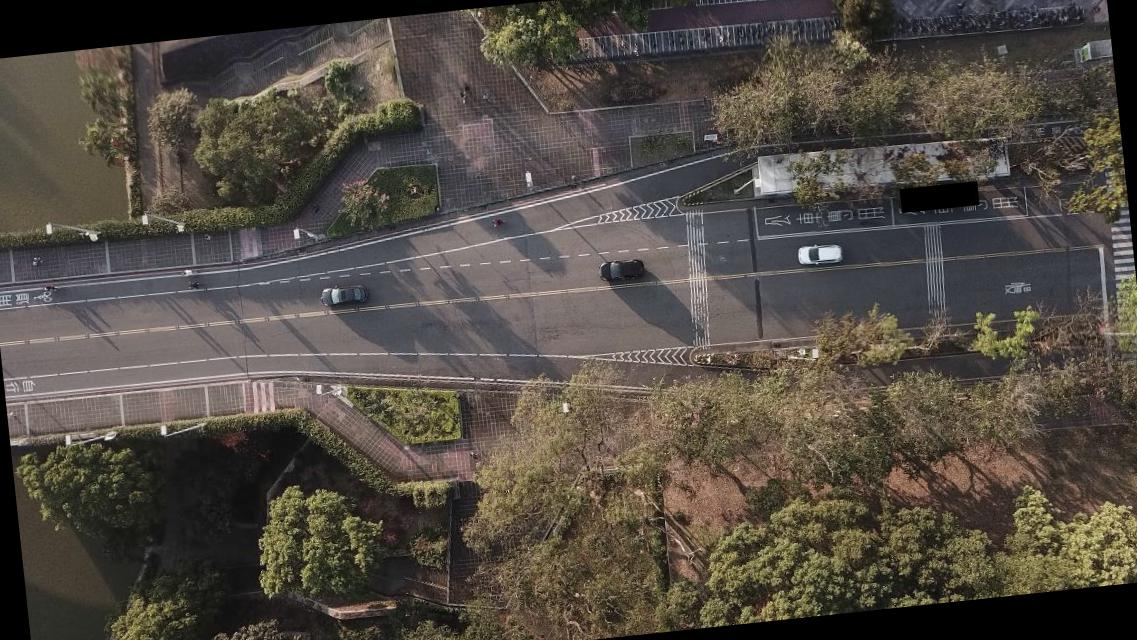vehicle: (319, 282, 369, 309), (599, 256, 647, 284), (796, 241, 844, 267)
